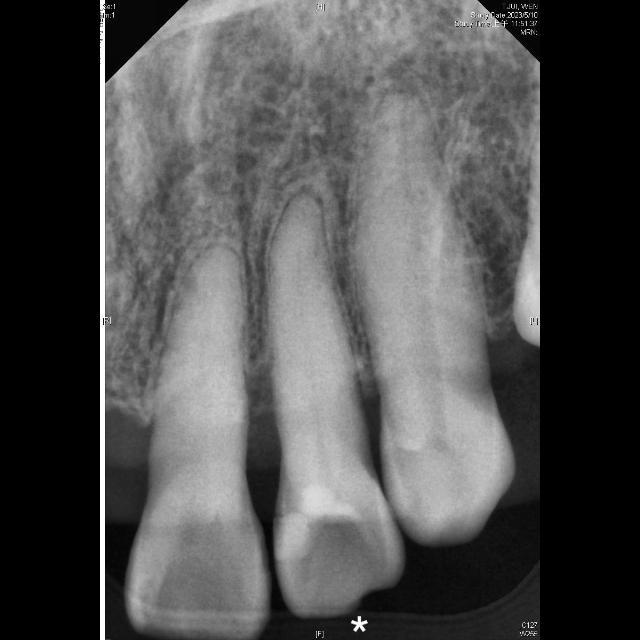test-segment: (270, 196, 403, 617)
